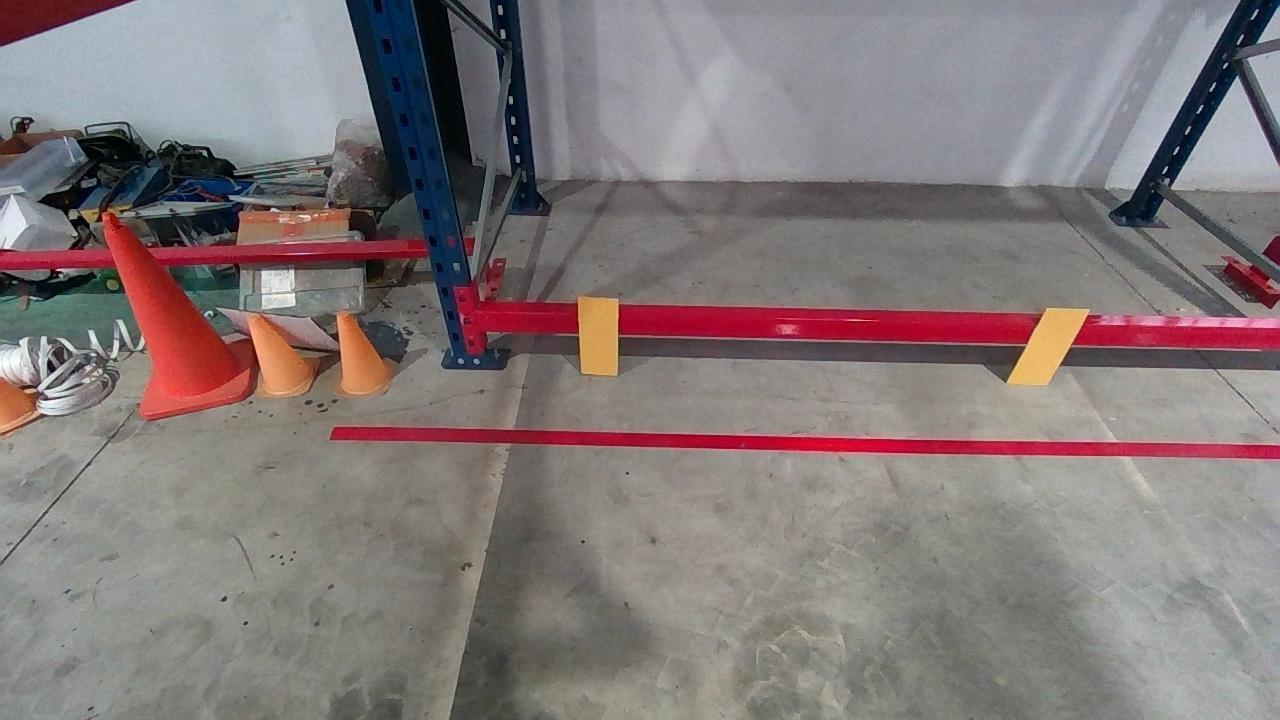red_line: (327, 426, 1275, 457)
